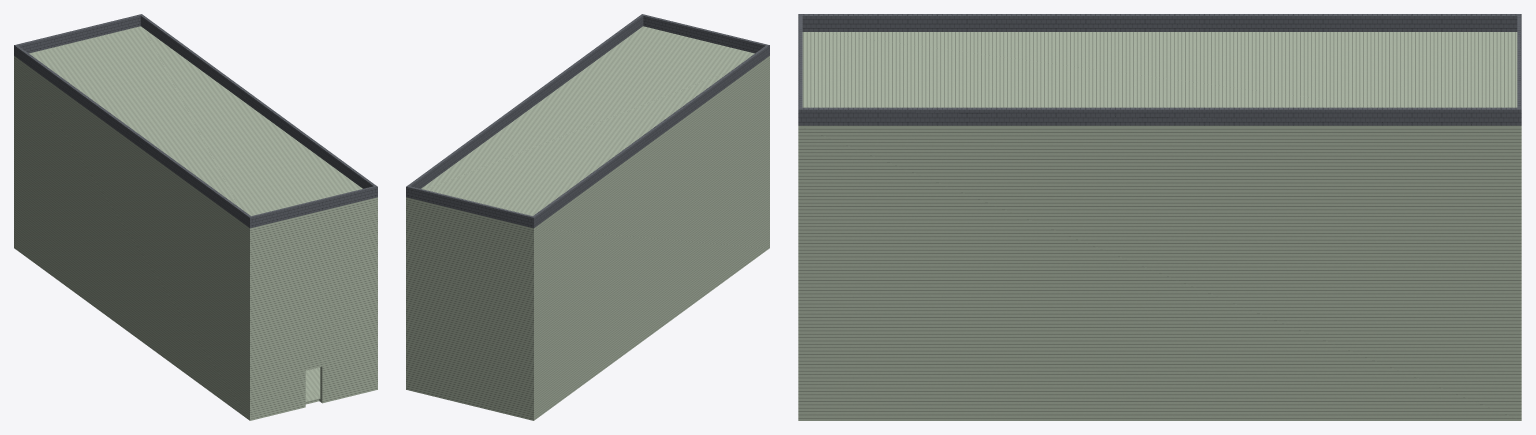
File: storefront_bank.glb
3 views of the same model, side by side, from view 1: azimuth 30°, elevation 25°; view 2: azimuth 150°, elevation 25°; view 3: azimuth 270°, elevation 25° (orthographic). The views are drawn at different scales.
Parts seen in each view (by area): view 1: storefront_bank-col; view 2: storefront_bank-col; view 3: storefront_bank-col.
Boxes of the visible parts, <box> form: storefront_bank-col: <box>14,14,377,420</box>; storefront_bank-col: <box>406,14,769,420</box>; storefront_bank-col: <box>798,14,1521,420</box>.
Size of the model in its own units: 7.62 by 11.58 by 24.38.
2 materials, 2 textured.
